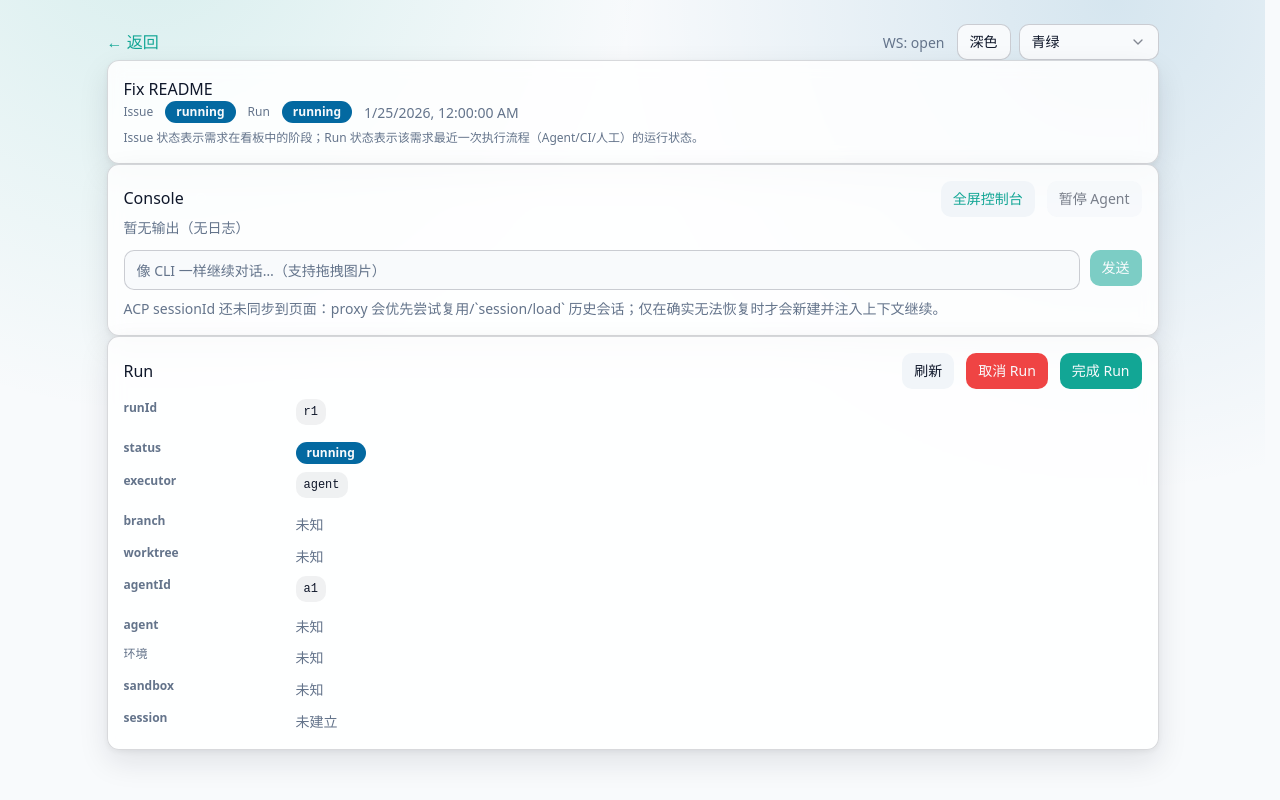
IssueDetailPage › cancels run and updates status
This screenshot has width=1280, height=800.
Check: the heading "Fix README" is shown, box [124, 78, 213, 100]
Check: the text "r1" is shown, box [296, 399, 326, 425]
Click the button "取消 Run" at (1007, 371), box [966, 353, 1048, 389]
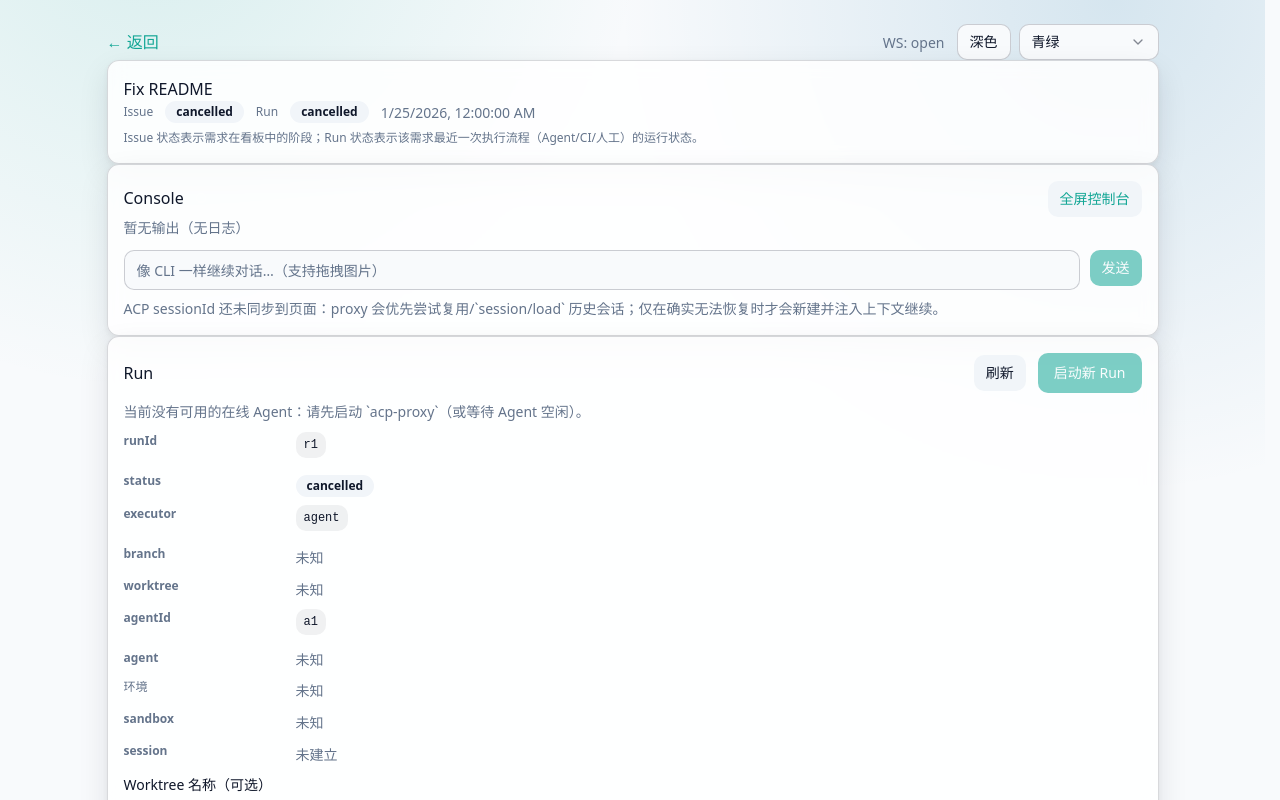
Check: the 1st text "cancelled" is shown, box [165, 101, 244, 123]
